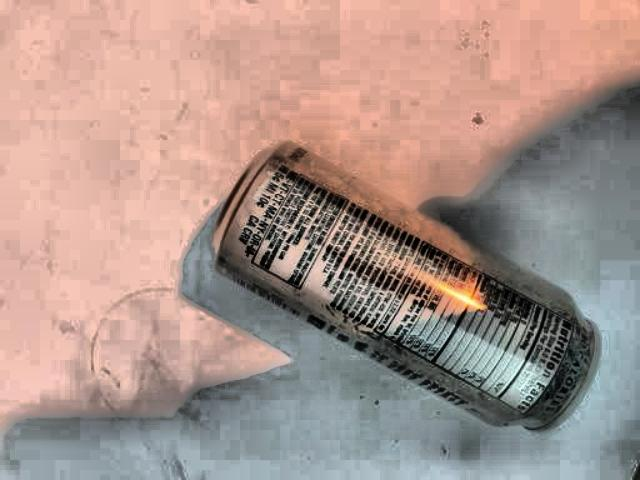Bottles: (186, 122, 630, 471)
